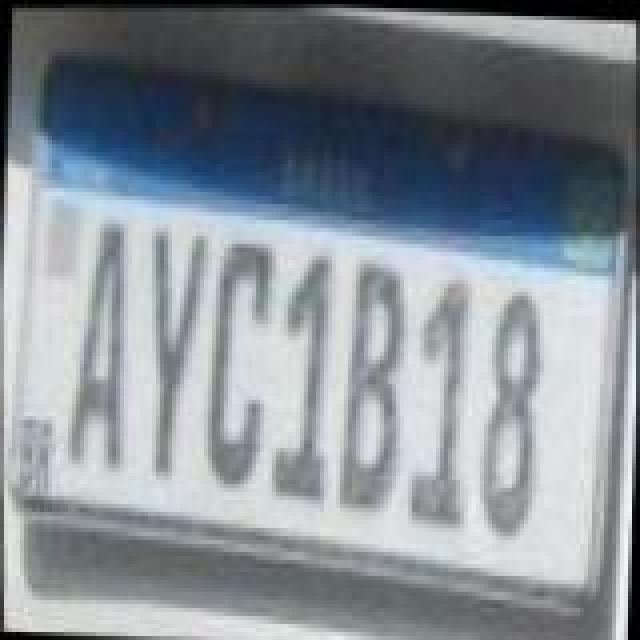1: (258, 246, 342, 506), (394, 268, 478, 528)
8: (466, 280, 550, 536)
A: (54, 214, 134, 470)
B: (326, 252, 418, 512)
C: (190, 232, 282, 488)
Y: (140, 220, 220, 480)
